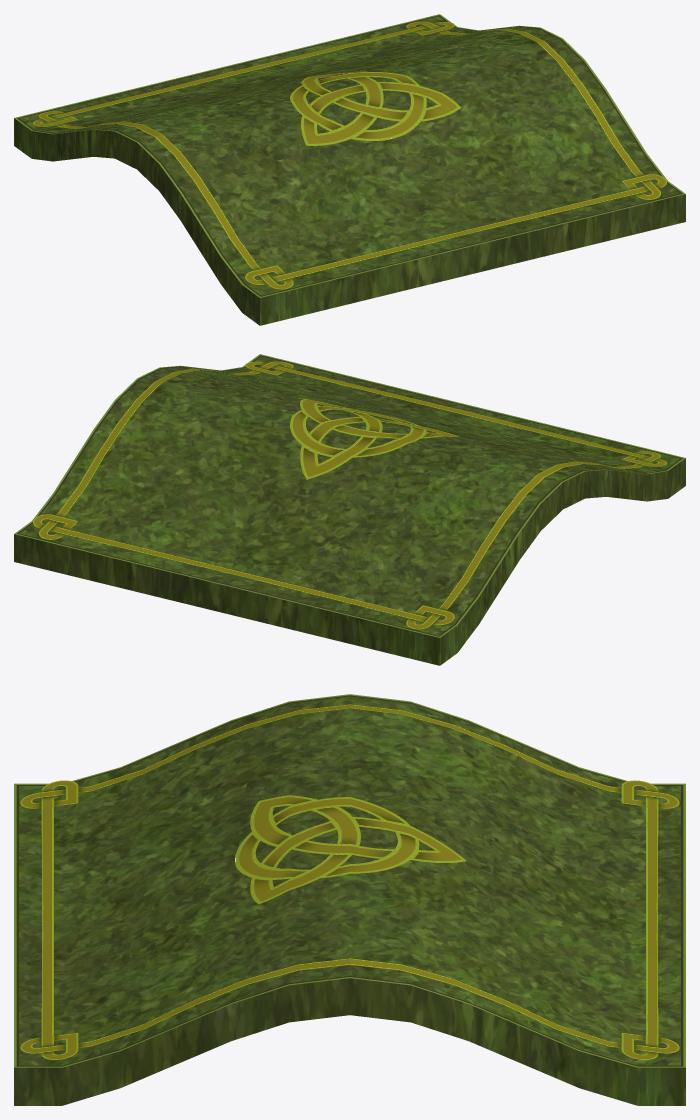
File: mountain_bigwave.gltf
3 views of the same model, one above another, from view 1: azimuth 30°, elevation 25°; view 2: azimuth 150°, elevation 25°; view 3: azimuth 270°, elevation 25° (orthographic). The views are drawn at different scales.
Parts seen in each view (by area): view 1: mountain_bigwave_glb; view 2: mountain_bigwave_glb; view 3: mountain_bigwave_glb.
Part boxes in pixels (<box>): mountain_bigwave_glb: <box>14,14,685,325</box>; mountain_bigwave_glb: <box>14,354,685,665</box>; mountain_bigwave_glb: <box>14,694,685,1105</box>.
Size of what is drawn, in the model's own units: 4 by 0.8571 by 4.
Materials: 2 (2 with a texture image).
